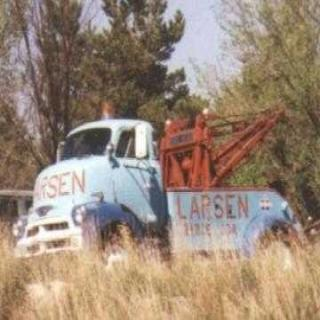Towing_truck: (15, 102, 305, 267)
